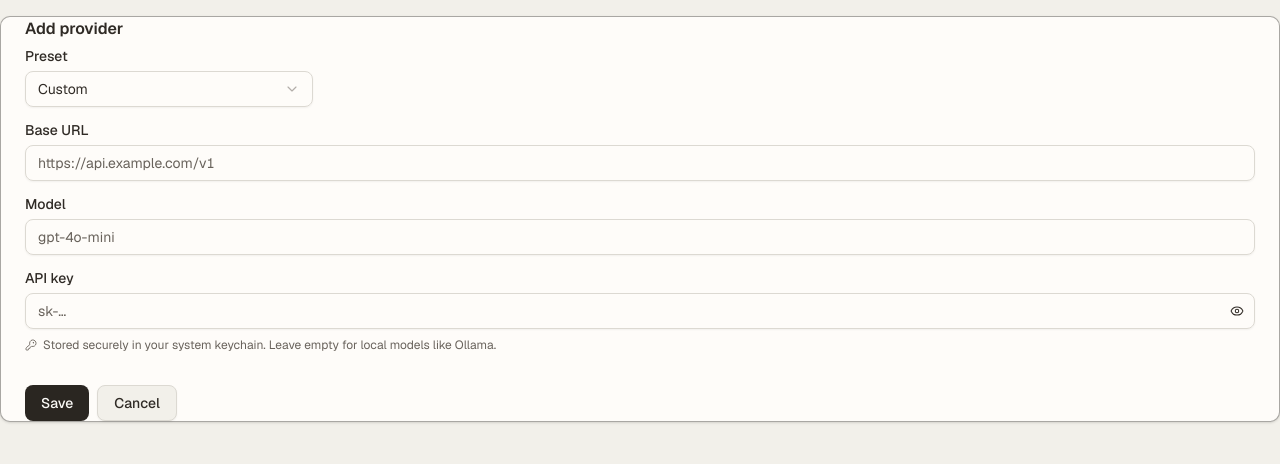
ProviderForm › rejects a custom URL that is not http(s)
Type "not-a-url" into the field labelled "Base URL".
click(640, 163); type("not-a-url")  # box 25,145 -> 1255,181
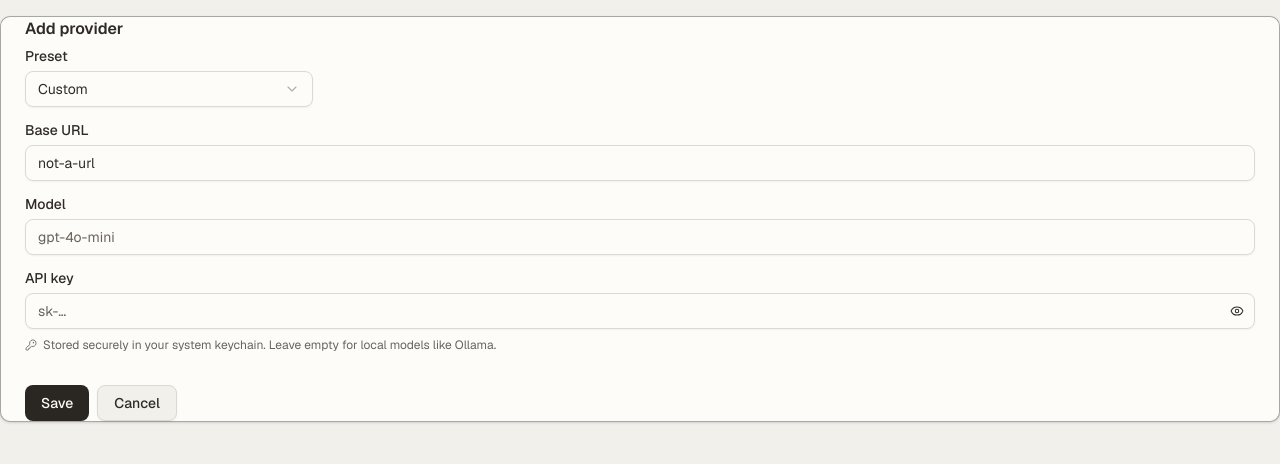
Type "m" into the field labelled "Model".
click(640, 237); type("m")  # box 25,219 -> 1255,255
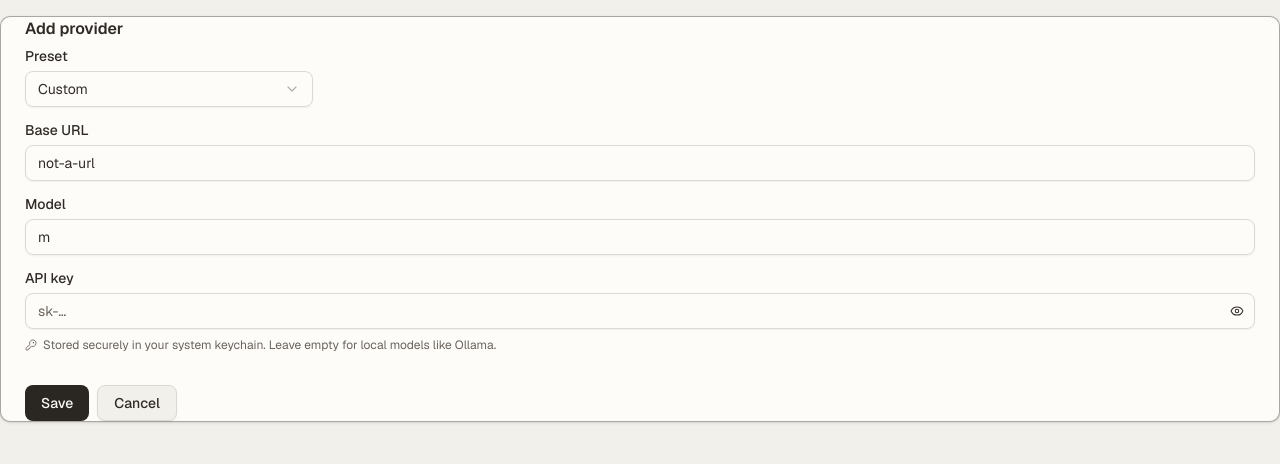
Click the button "Save".
click(57, 403)  # box 25,385 -> 89,421
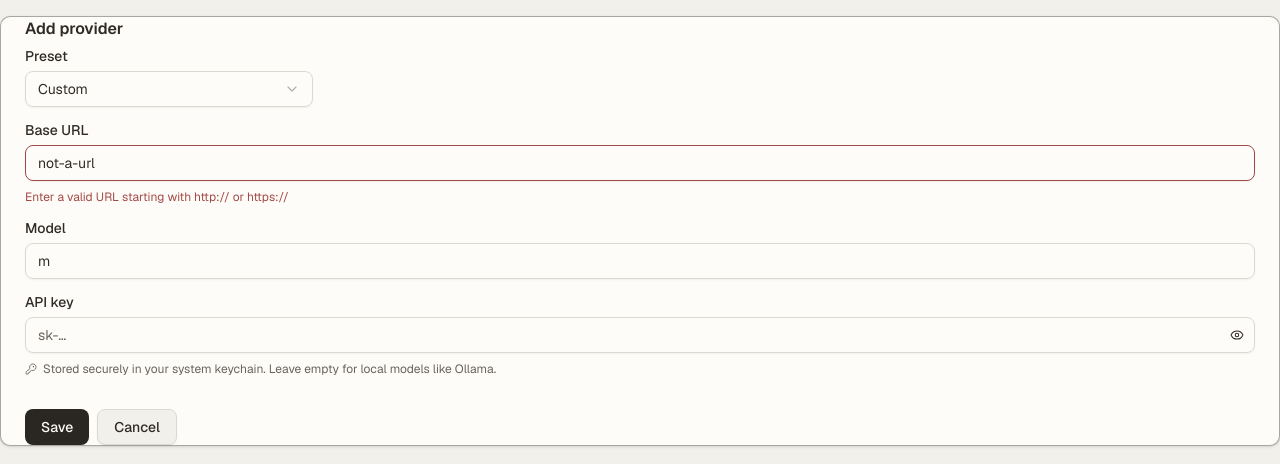
Expected: the text "Enter a valid URL starting with http:// or https://" is shown, 25,189 -> 289,205
